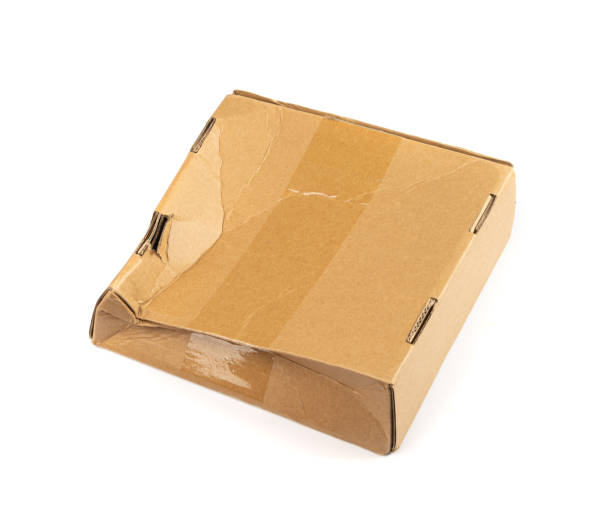damaged package: (111, 202, 184, 323)
